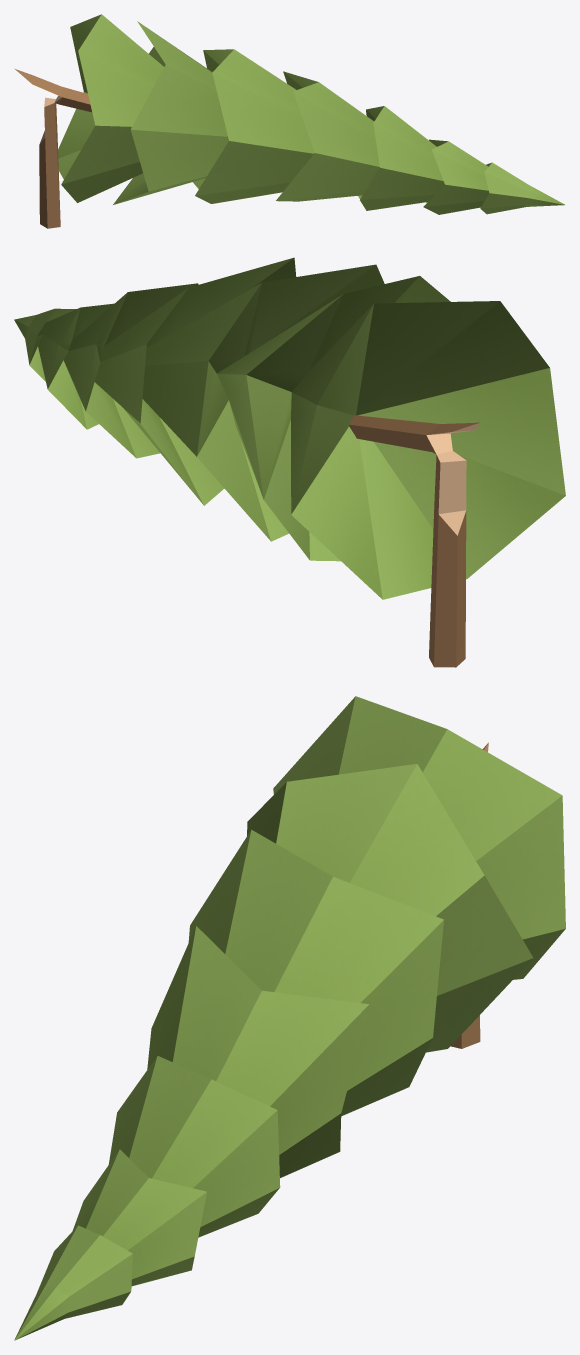
The model's file is Pine_Tree_crk_l_BT_01.fbx.
3 views of the same model, one above another, from view 1: azimuth 30°, elevation 25°; view 2: azimuth 150°, elevation 25°; view 3: azimuth 270°, elevation 25° (orthographic). The views are drawn at different scales.
Parts seen in each view (by area): view 1: Pine_Tree_crk_l_BT_01; view 2: Pine_Tree_crk_l_BT_01; view 3: Pine_Tree_crk_l_BT_01.
Boxes of the visible parts, x1,y1,x2,y2 form: Pine_Tree_crk_l_BT_01: [14, 14, 564, 228]; Pine_Tree_crk_l_BT_01: [14, 257, 565, 667]; Pine_Tree_crk_l_BT_01: [14, 696, 565, 1340].
Bounding box in the file's own units: 1395 × 640 × 910.
